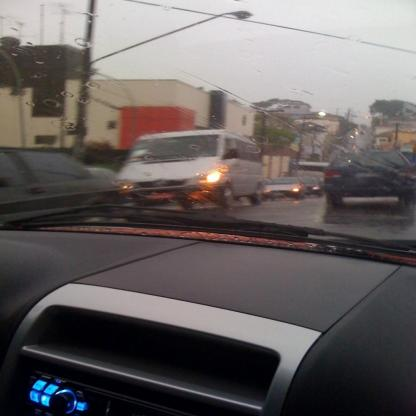Car: (2, 2, 416, 416), (1, 147, 133, 226), (317, 146, 412, 205), (262, 180, 305, 199), (292, 175, 322, 197)
